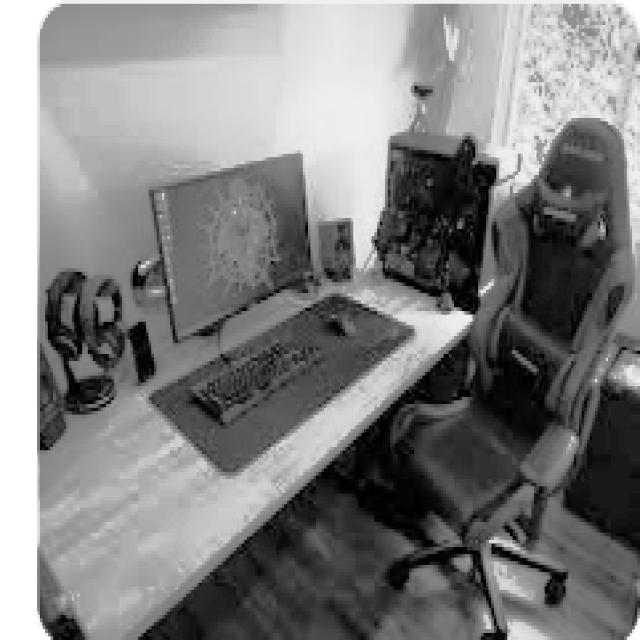book: (382, 114, 632, 636)
table: (37, 258, 481, 636)
